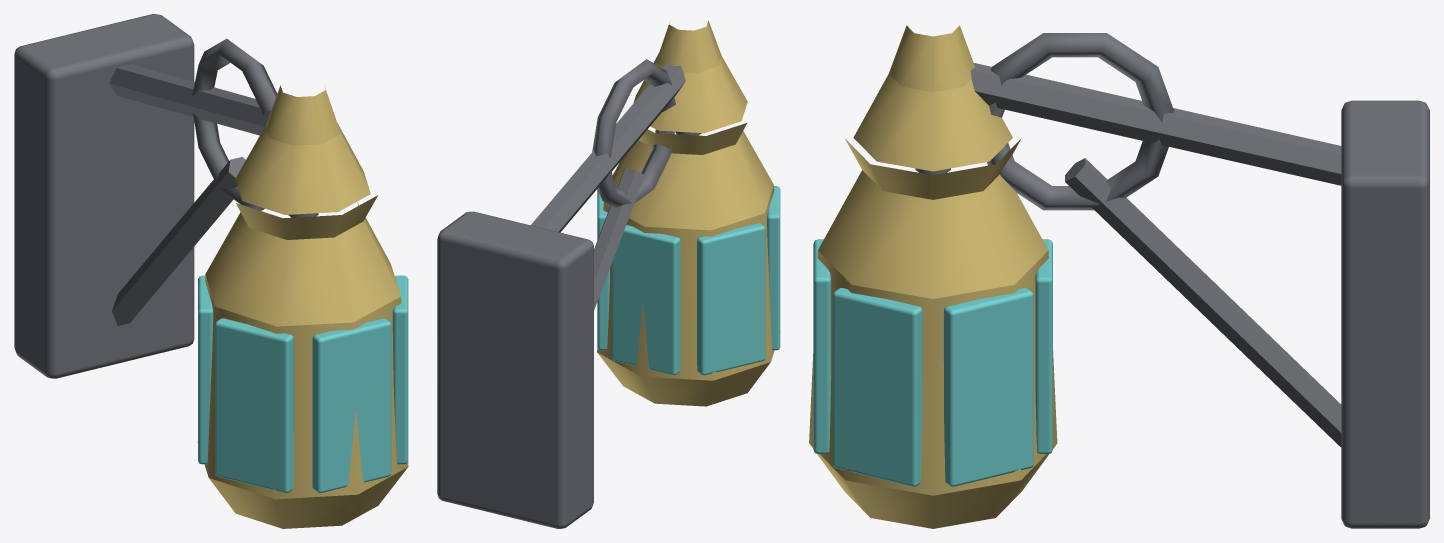
File: wall-lantern-brack-efd95d2d.glb
The picture shows the model from 3 angles, left to right: view 1: azimuth 30°, elevation 25°; view 2: azimuth 150°, elevation 25°; view 3: azimuth 270°, elevation 25°; orthographic projection. The views are drawn at different scales.
Parts seen in each view (by area): view 1: wall-lantern-bracket; view 2: wall-lantern-bracket; view 3: wall-lantern-bracket.
Boxes of the visible parts, left/top/right/bottom form: wall-lantern-bracket: left=14, top=14, right=408, bottom=528; wall-lantern-bracket: left=437, top=20, right=780, bottom=528; wall-lantern-bracket: left=809, top=25, right=1429, bottom=528.
Size of the model in its own units: 0.2848 by 0.58 by 0.7.
